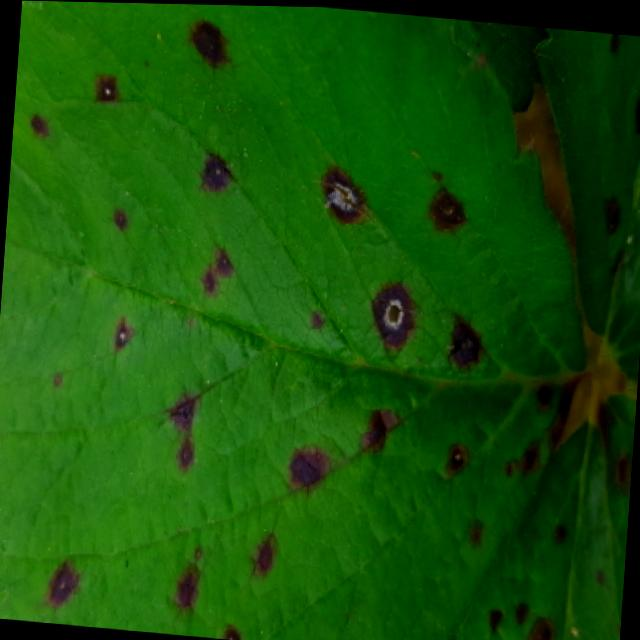Leaf Spot: (0, 0, 584, 640), (441, 390, 636, 640), (531, 24, 640, 380)
